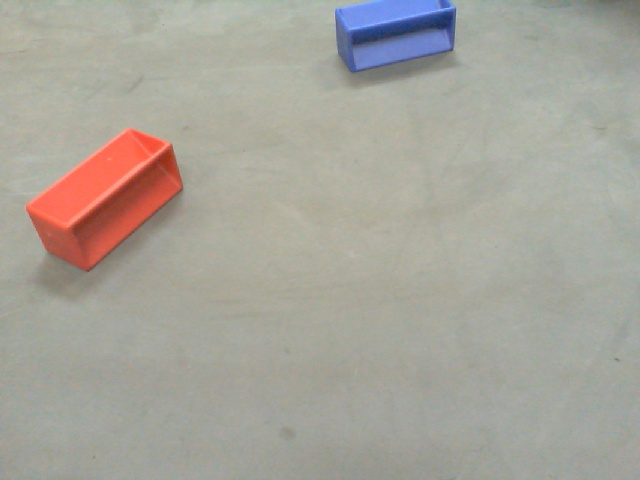BlueSample: (330, 1, 461, 75)
RedSample: (24, 122, 195, 275)
